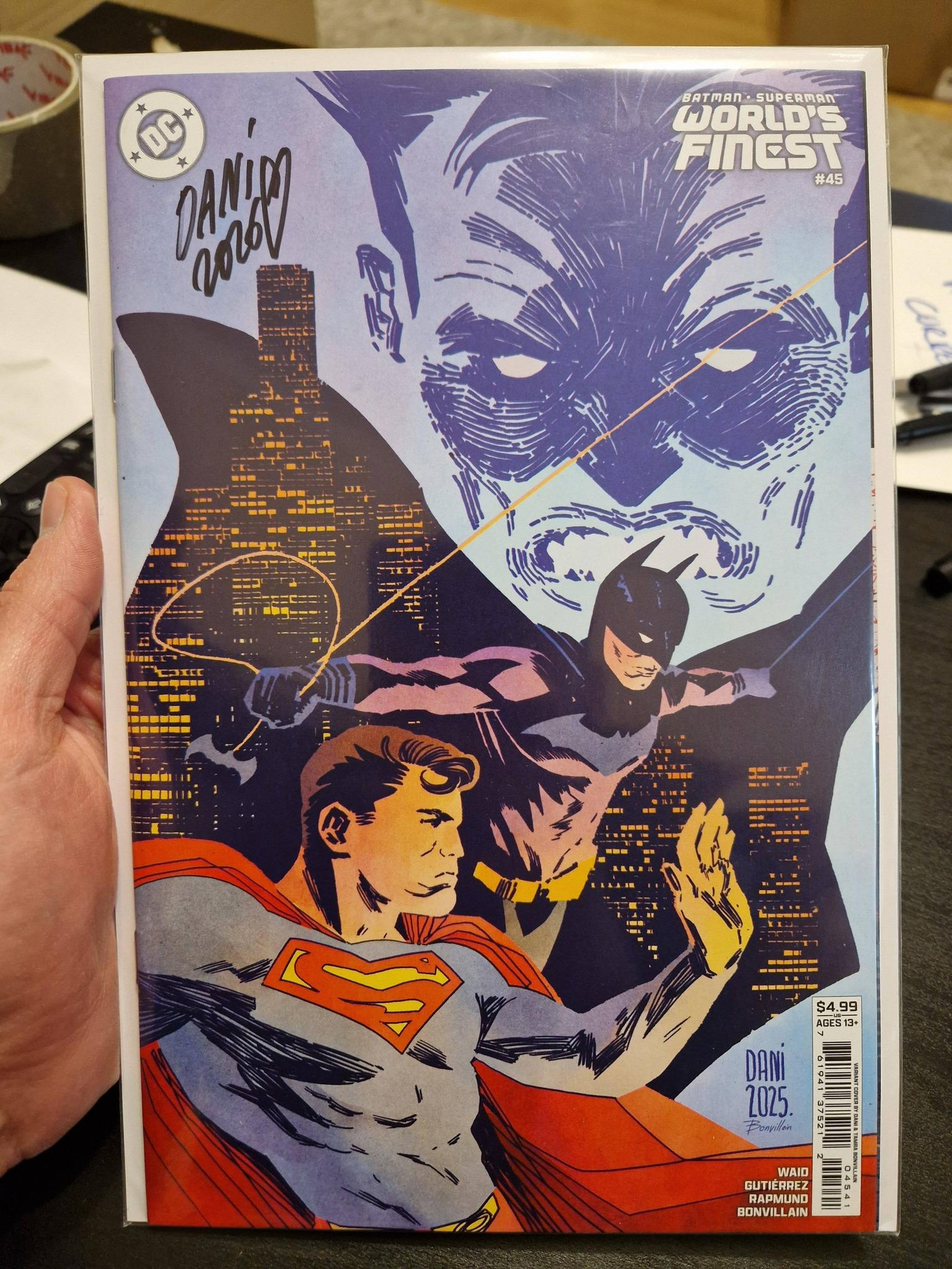comic: (82, 42, 905, 1242)
